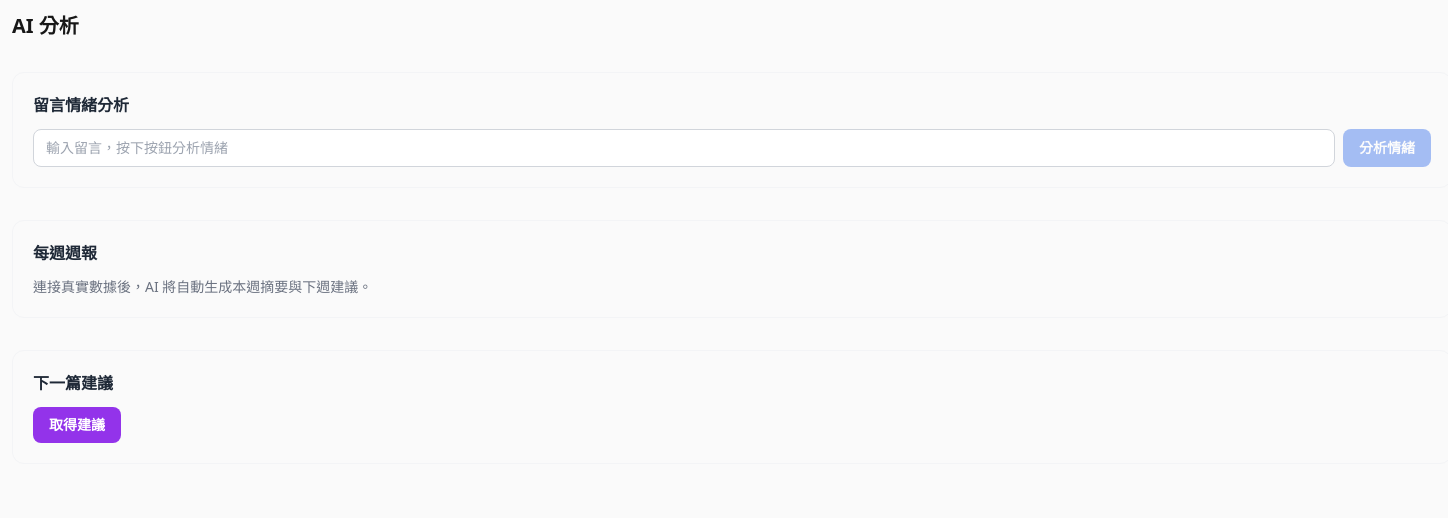
Test: AiAnalysisPage — AI 分析 › calls suggest API and shows suggestion
Click the button "取得建議" at coordinates (77, 425), box [33,407,121,443]
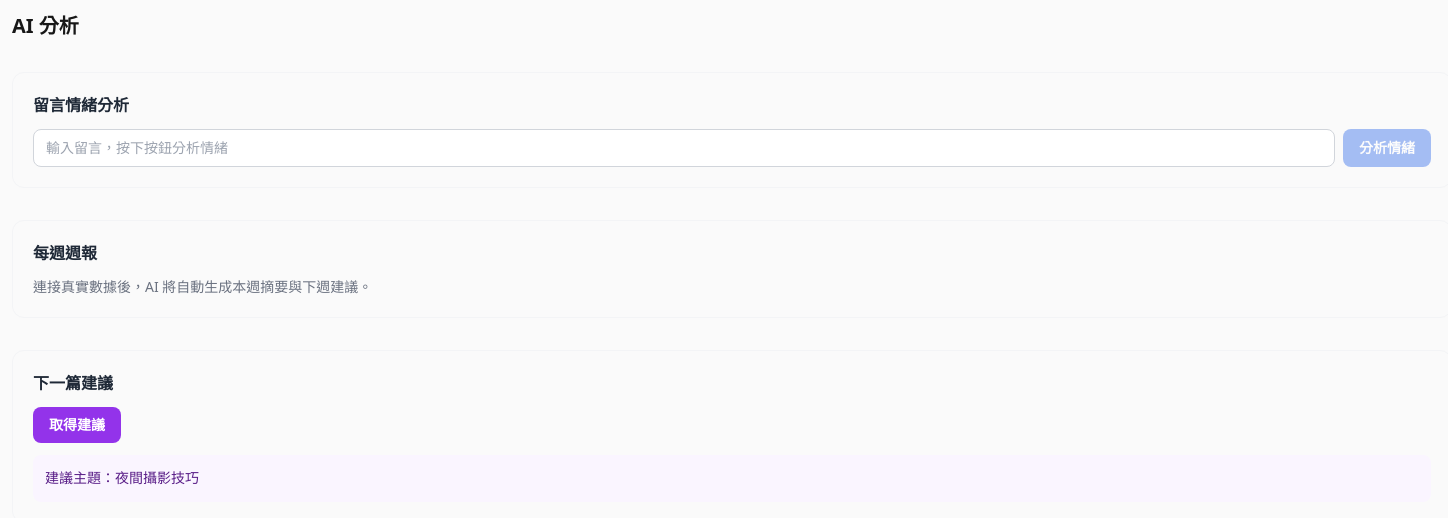
Expected: the text "建議主題：夜間攝影技巧" is shown, [33,455,1431,502]
